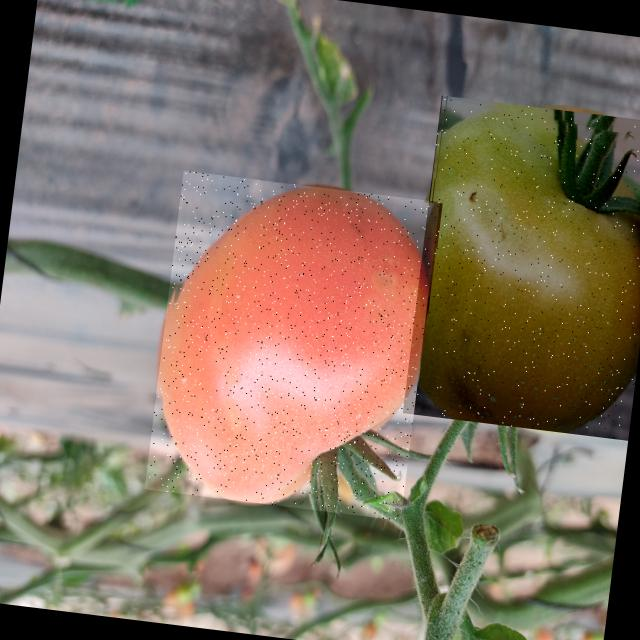Ripe Tomato: (144, 170, 439, 520)
Unripe Tomato: (402, 95, 640, 440)
